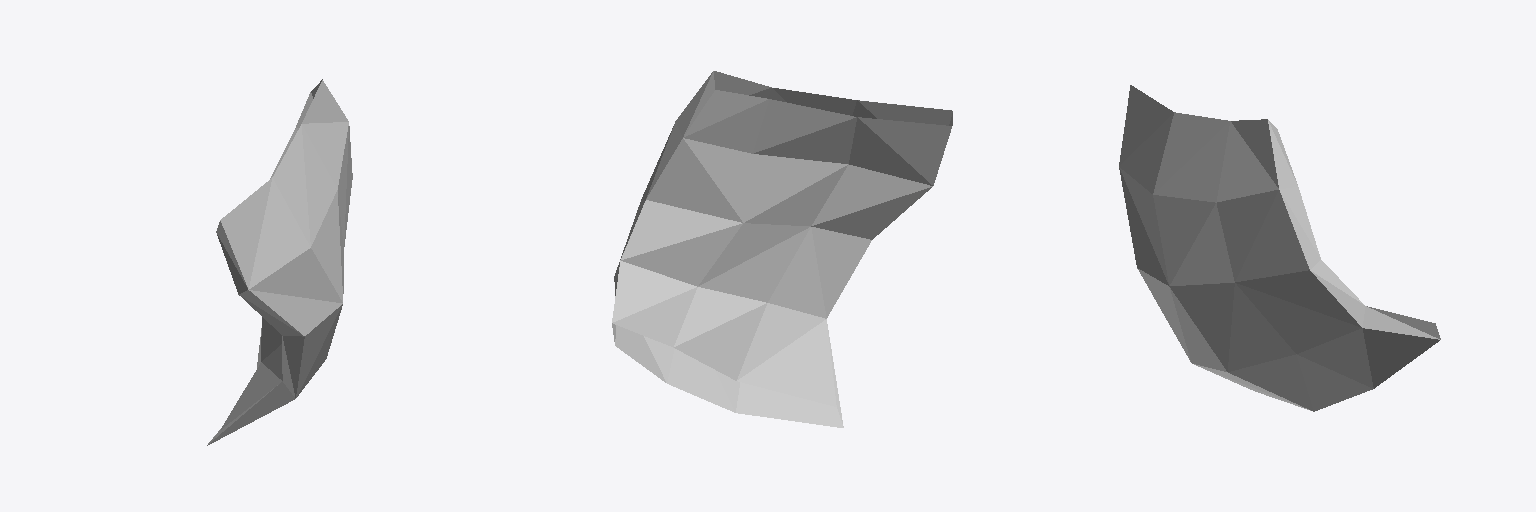
File: Depressor_Labii_Inferioris_Muscle_Left.obj
3 renders of one model, left to right at view 1: azimuth 30°, elevation 25°; view 2: azimuth 150°, elevation 25°; view 3: azimuth 270°, elevation 25°, orthographic.
Parts seen in each view (by area): view 1: Depressor_Labii_Inferioris_Muscle_Left1_Mesh group1; view 2: Depressor_Labii_Inferioris_Muscle_Left1_Mesh group1; view 3: Depressor_Labii_Inferioris_Muscle_Left1_Mesh group1.
Part boxes in pixels (x1,y1,x2,y2): Depressor_Labii_Inferioris_Muscle_Left1_Mesh group1: (207,79,352,445); Depressor_Labii_Inferioris_Muscle_Left1_Mesh group1: (612,71,952,427); Depressor_Labii_Inferioris_Muscle_Left1_Mesh group1: (1119,85,1440,411).
Size of the model in its own units: 0.2176 by 0.308 by 0.2704.